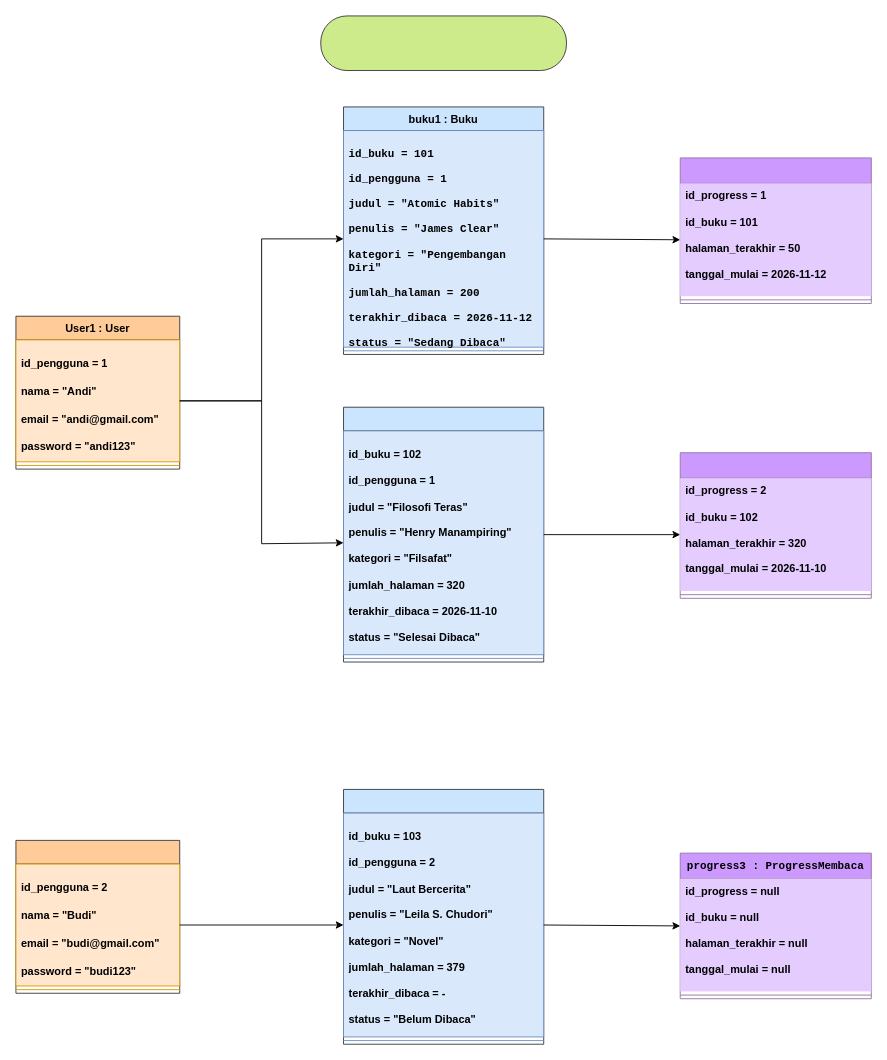
Some shapes in this 887 by 1060 pixel diagram are drawn without their labels. Each missing label, with the box of its shape:
buku2 : Buku: (343, 406, 544, 662)
buku3 : Buku: (343, 789, 544, 1044)
OBJECT DIAGRAM: (320, 15, 566, 71)
progress1 : ProgressMembaca: (679, 157, 871, 303)
progress2 : ProgressMembaca: (679, 452, 871, 598)
User2 : User: (15, 839, 180, 993)
